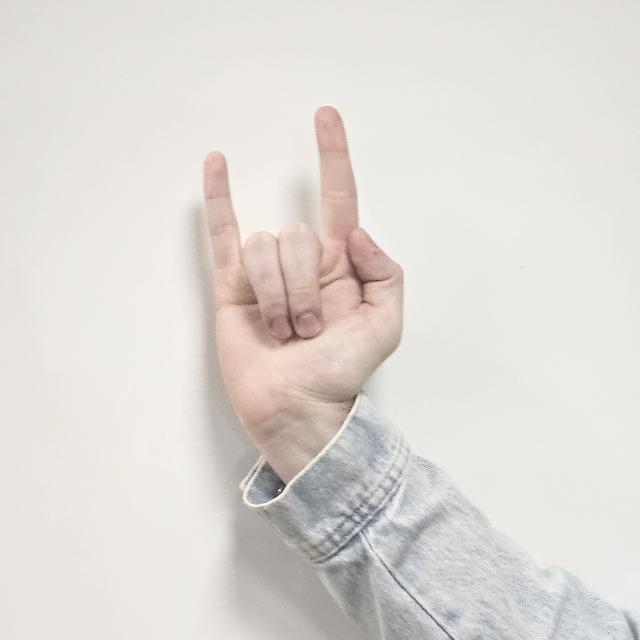L: (192, 94, 410, 418)
